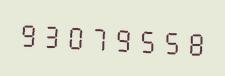eight: (185, 23, 208, 61)
five: (137, 21, 160, 58), (161, 22, 184, 59)
nine: (17, 15, 40, 52), (113, 20, 136, 57)
seven: (89, 18, 112, 55)
three: (41, 16, 64, 53)
zero: (65, 17, 88, 54)
